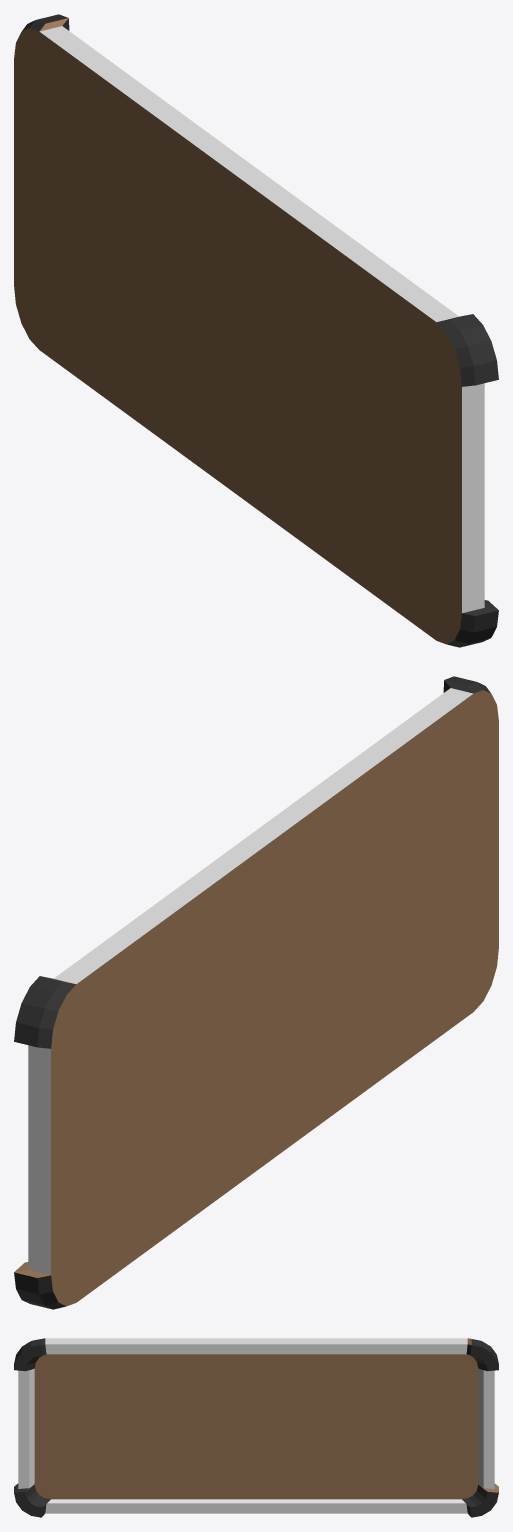
The model's file is Pizarra.fbx.
3 renders of one model, top to bottom at view 1: azimuth 30°, elevation 25°; view 2: azimuth 150°, elevation 25°; view 3: azimuth 270°, elevation 25°, orthographic. The views are drawn at different scales.
Visible parts, largest first — view 1: Cube; view 2: Cube; view 3: Cube.
Boxes of the visible parts, left/top/right/bottom form: Cube: left=14, top=14, right=498, bottom=647; Cube: left=14, top=676, right=498, bottom=1309; Cube: left=14, top=1338, right=498, bottom=1517.
Bounding box in the file's own units: 67.02 × 629 × 1603.
